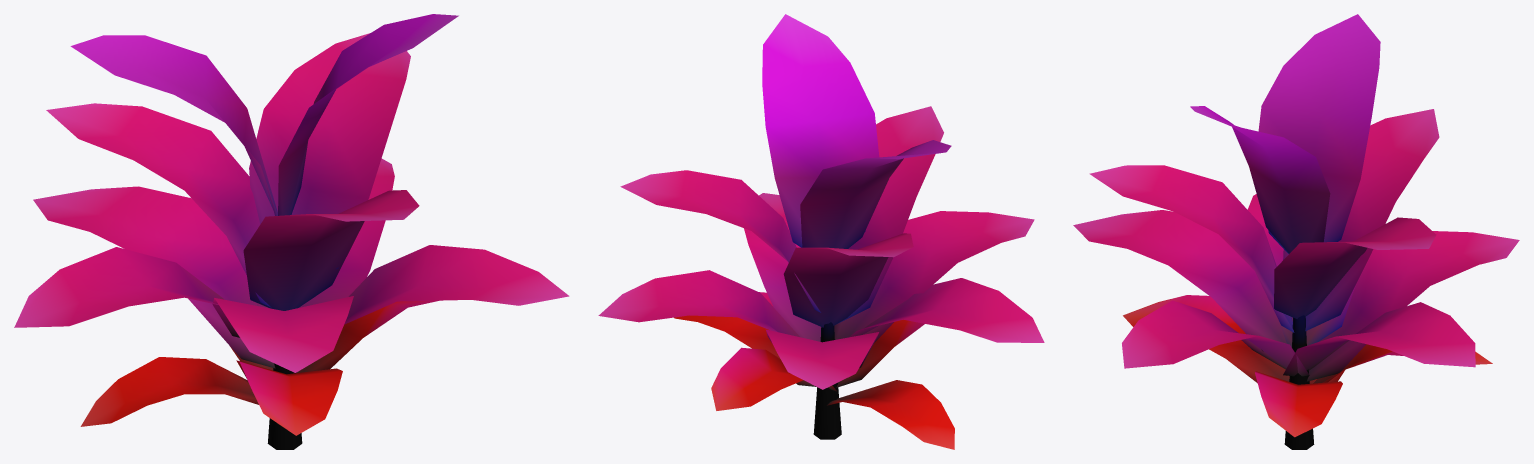
File: Bananas_01.fbx
The picture shows the model from 3 angles, left to right: view 1: azimuth 30°, elevation 25°; view 2: azimuth 150°, elevation 25°; view 3: azimuth 270°, elevation 25°; orthographic projection. The views are drawn at different scales.
Parts seen in each view (by area): view 1: Bananas_01; view 2: Bananas_01; view 3: Bananas_01.
Part boxes in pixels (x1,y1,x2,y2): Bananas_01: [14, 14, 569, 449]; Bananas_01: [598, 14, 1044, 449]; Bananas_01: [1073, 14, 1519, 449].
Size of the model in its own units: 293 by 266 by 283.
